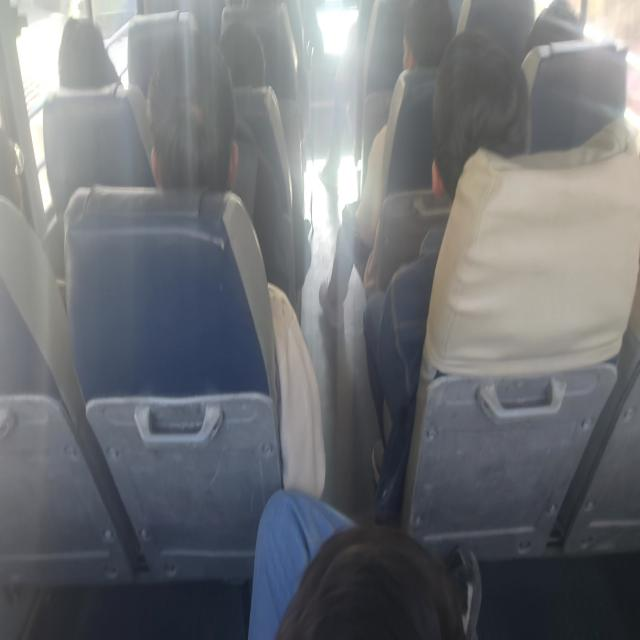person: (271, 512, 461, 640), (434, 34, 526, 204), (144, 43, 247, 188), (46, 10, 116, 94), (512, 0, 594, 69), (390, 0, 465, 71), (207, 22, 277, 88), (0, 106, 28, 217)
